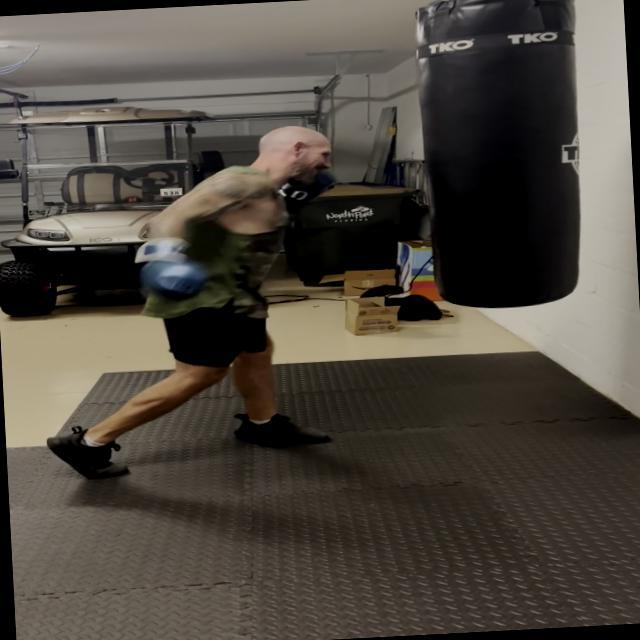bag: (407, 0, 590, 311)
hook: (108, 107, 356, 302)
